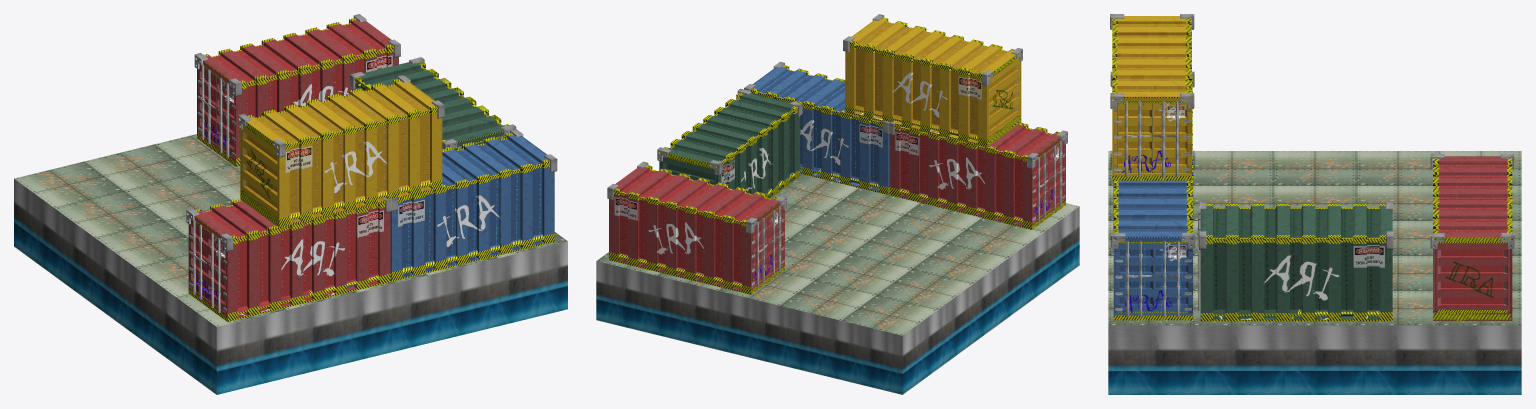
File: tile L shape Rev2(1).fbx
3 views of the same model, side by side, from view 1: azimuth 30°, elevation 25°; view 2: azimuth 150°, elevation 25°; view 3: azimuth 270°, elevation 25° (orthographic). The views are drawn at different scales.
Parts seen in each view (by area): view 1: Cube, Cube.003, Cube.001, Cube.002, Cube.004, Cube.005; view 2: Cube, Cube.003, Cube.004, Cube.001, Cube.005, Cube.002; view 3: Cube, Cube.005, Cube.003, Cube.004, Cube.002.
Boxes of the visible parts, box(x1,y1,x2,y2) form: Cube: box(14, 134, 567, 394); Cube.003: box(238, 75, 444, 227); Cube.001: box(186, 197, 392, 321); Cube.002: box(390, 128, 557, 281); Cube.004: box(194, 14, 400, 166); Cube.005: box(349, 57, 516, 150); Cube: box(596, 173, 1079, 394); Cube.003: box(843, 14, 1022, 147); Cube.004: box(607, 161, 786, 294); Cube.001: box(888, 120, 1067, 229); Cube.005: box(657, 88, 802, 198); Cube.002: box(744, 61, 889, 194); Cube: box(1108, 151, 1521, 394); Cube.005: box(1197, 201, 1393, 321); Cube.003: box(1110, 14, 1194, 180); Cube.004: box(1430, 154, 1514, 320); Cube.002: box(1111, 153, 1195, 320).
Bounding box in the file's own units: 20000 × 12703 × 20000.
